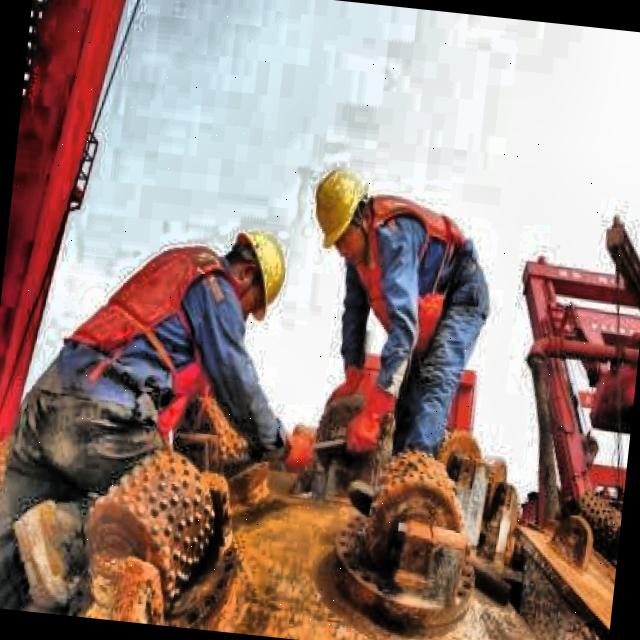helmet: (299, 153, 386, 258), (210, 215, 294, 322)
